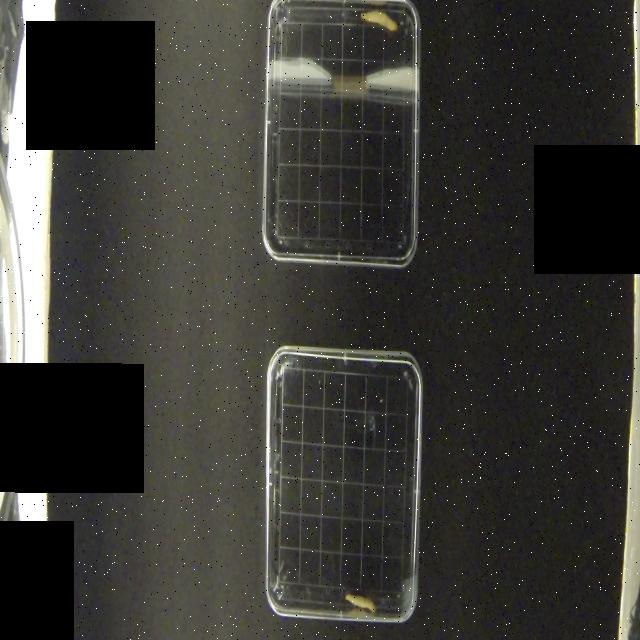larva: (360, 8, 399, 33), (346, 588, 378, 618)
